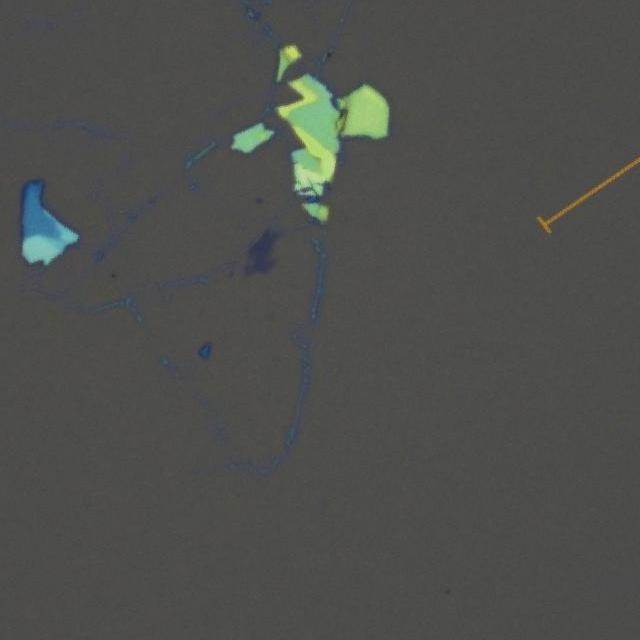monolayer-eWW4: (245, 227, 280, 277)
